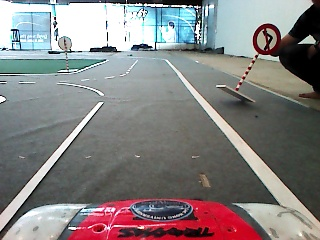ban_left: (252, 23, 281, 54)
